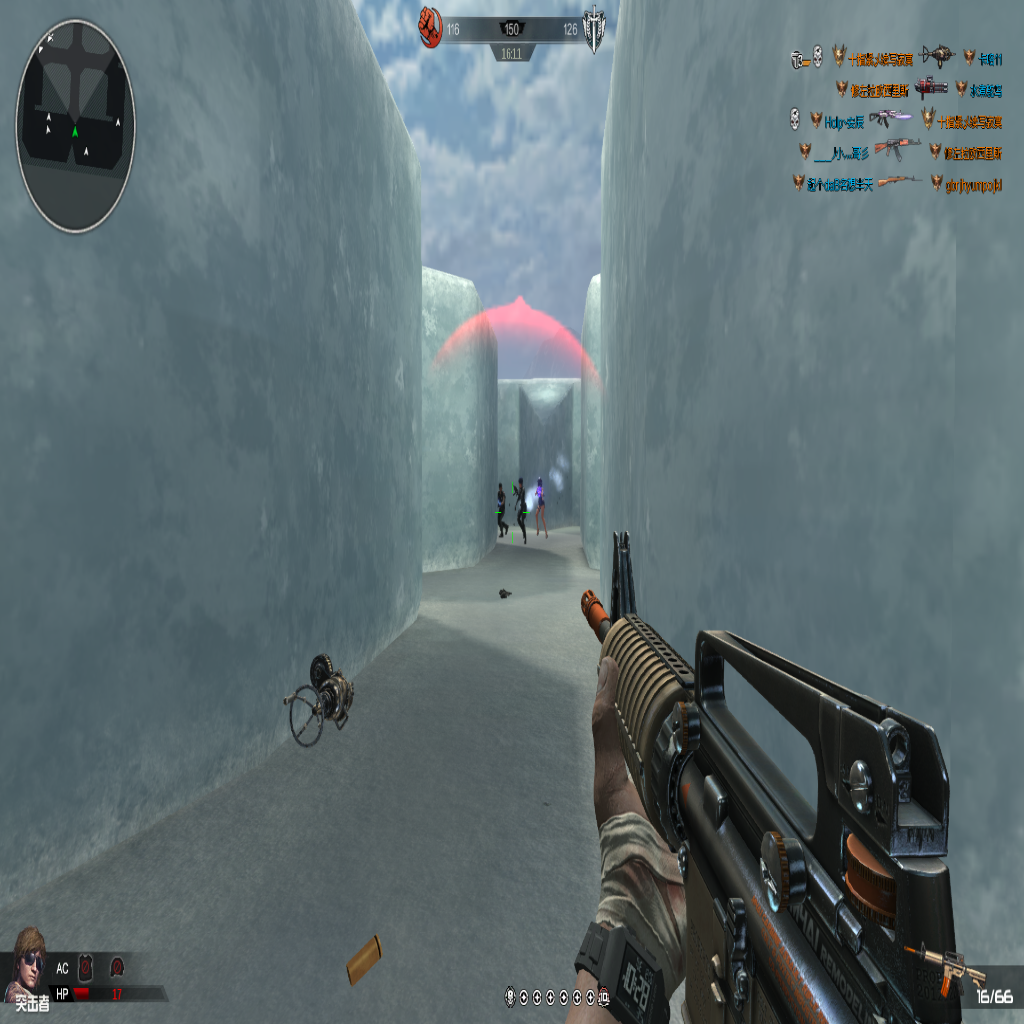ct: (513, 474, 529, 543), (532, 473, 548, 539), (495, 480, 508, 539)
